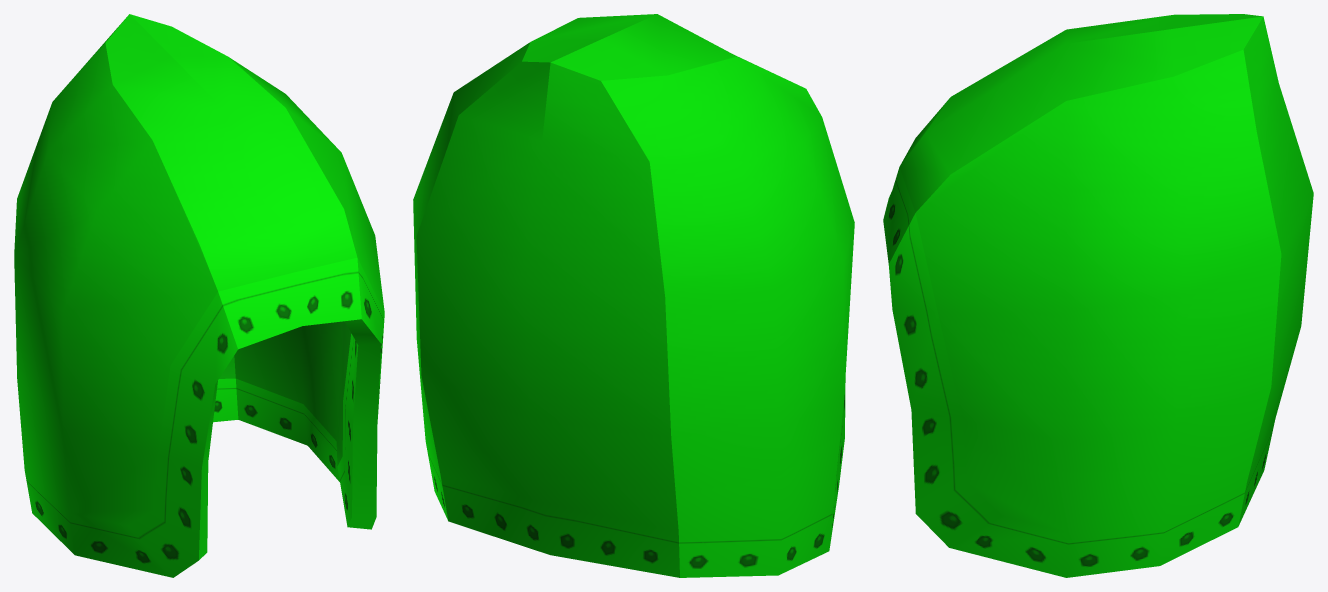
File: Bascinet_M.fbx
3 views of the same model, side by side, from view 1: azimuth 30°, elevation 25°; view 2: azimuth 150°, elevation 25°; view 3: azimuth 270°, elevation 25° (orthographic). The views are drawn at different scales.
Visible parts, largest first — view 1: Bascinet_M; view 2: Bascinet_M; view 3: Bascinet_M.
Part boxes in pixels (left/top/right/bottom): Bascinet_M: left=14, top=14, right=384, bottom=577; Bascinet_M: left=413, top=14, right=854, bottom=577; Bascinet_M: left=883, top=14, right=1313, bottom=577.
Bounding box in the file's own units: 27.49 × 37.03 × 29.85.
